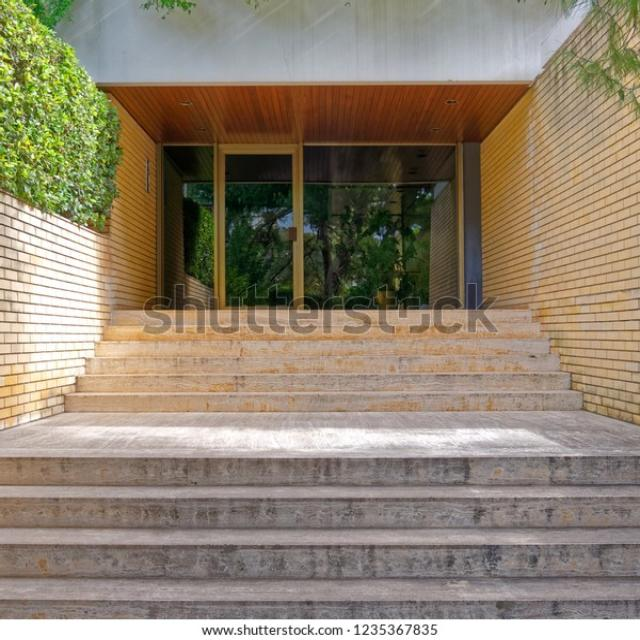upstair: (5, 453, 640, 603), (58, 299, 564, 409)
